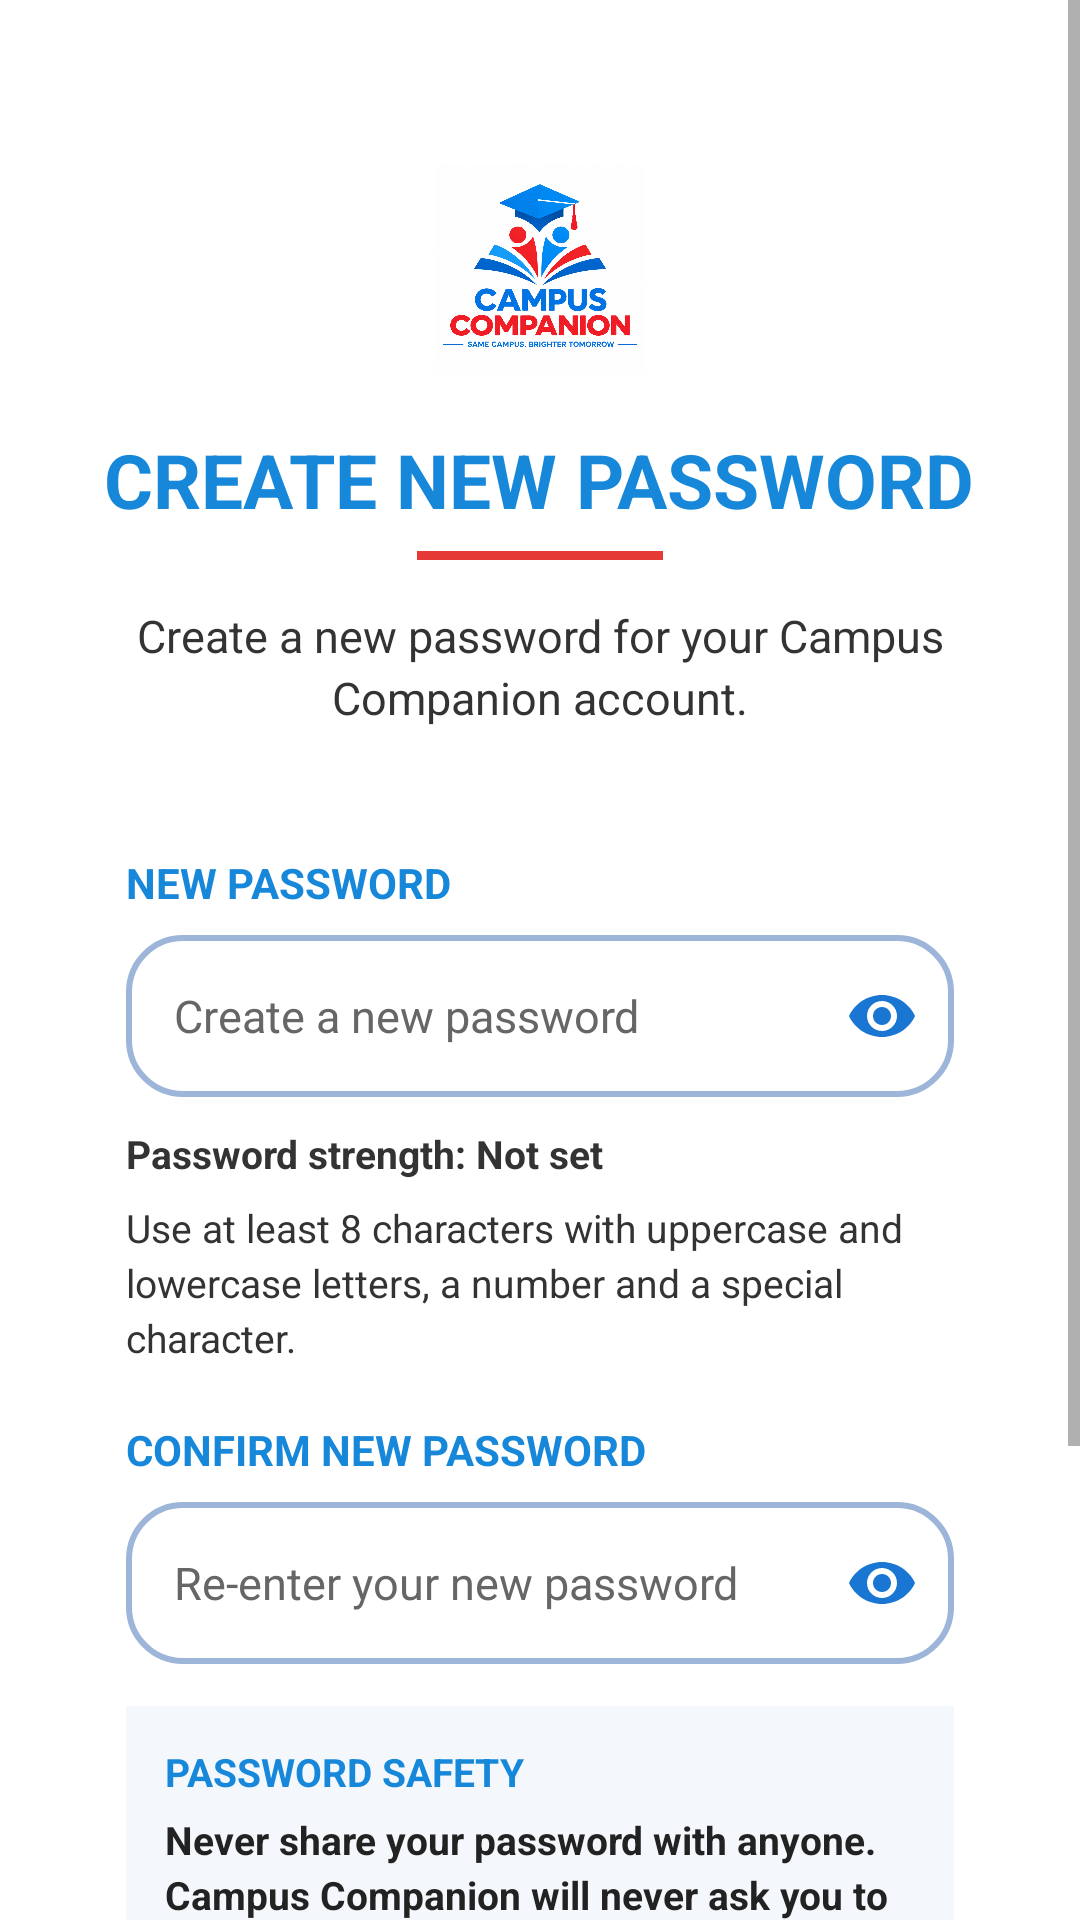

Where to tap for icons on this 1080 x 1920 app screen, as (x=x, y=y):
Show or hide confirmed password: (x=882, y=1583)
